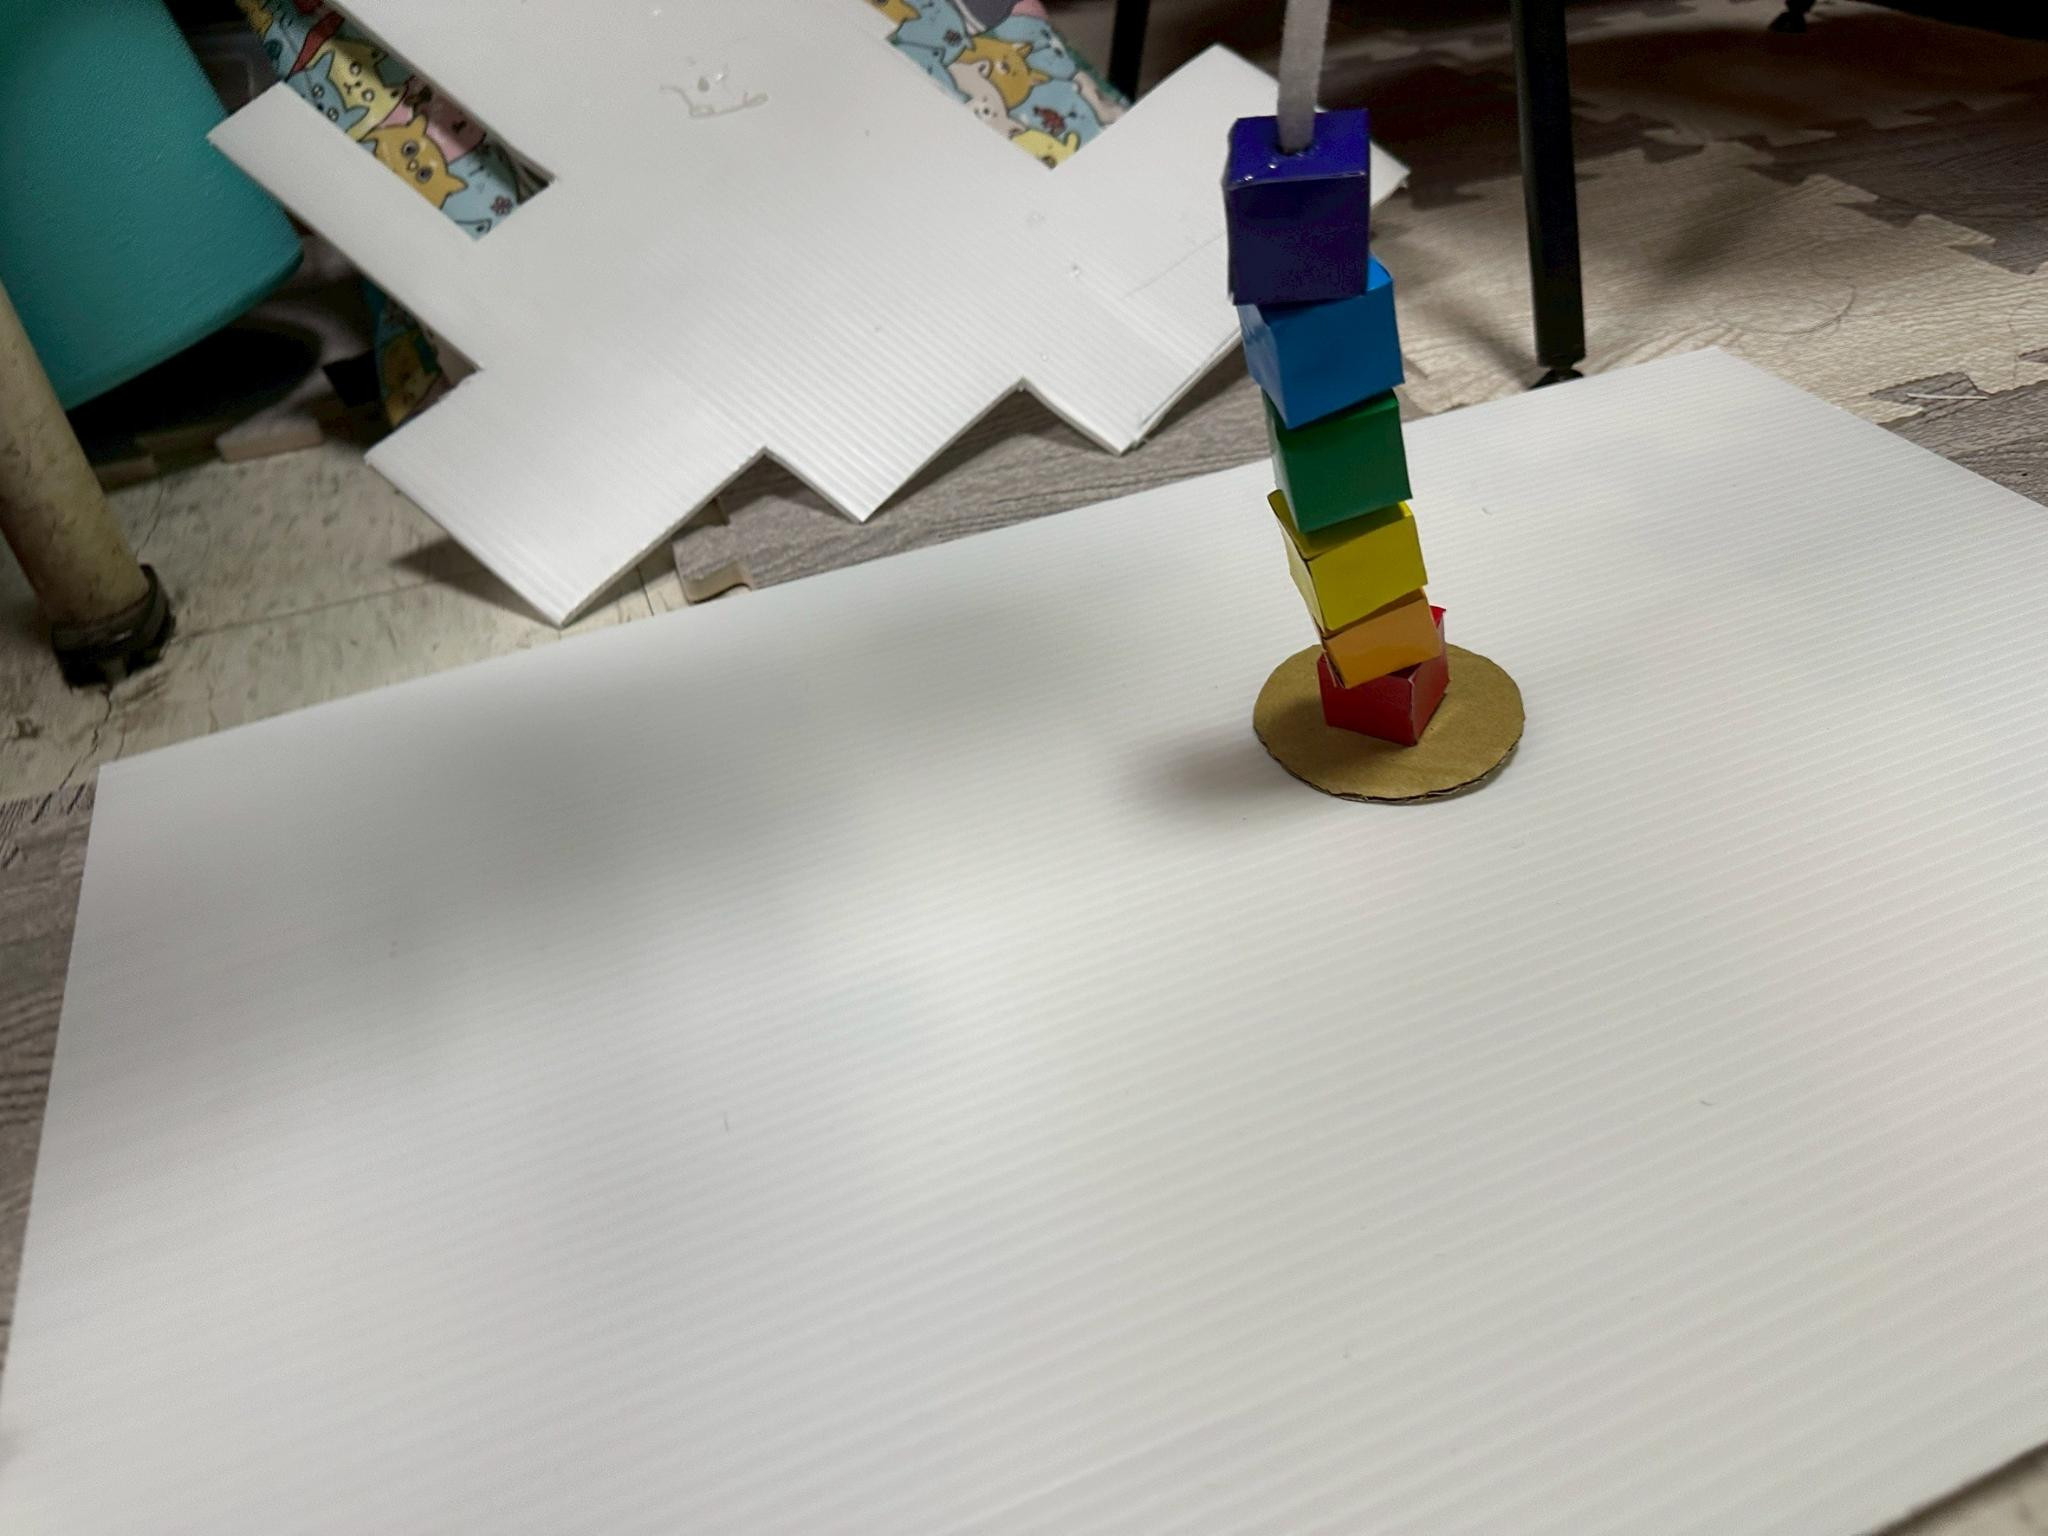base: (1238, 253, 1403, 429), (1224, 110, 1369, 305), (1268, 490, 1427, 637), (1266, 390, 1411, 536), (1317, 605, 1448, 747), (1322, 591, 1442, 687)
